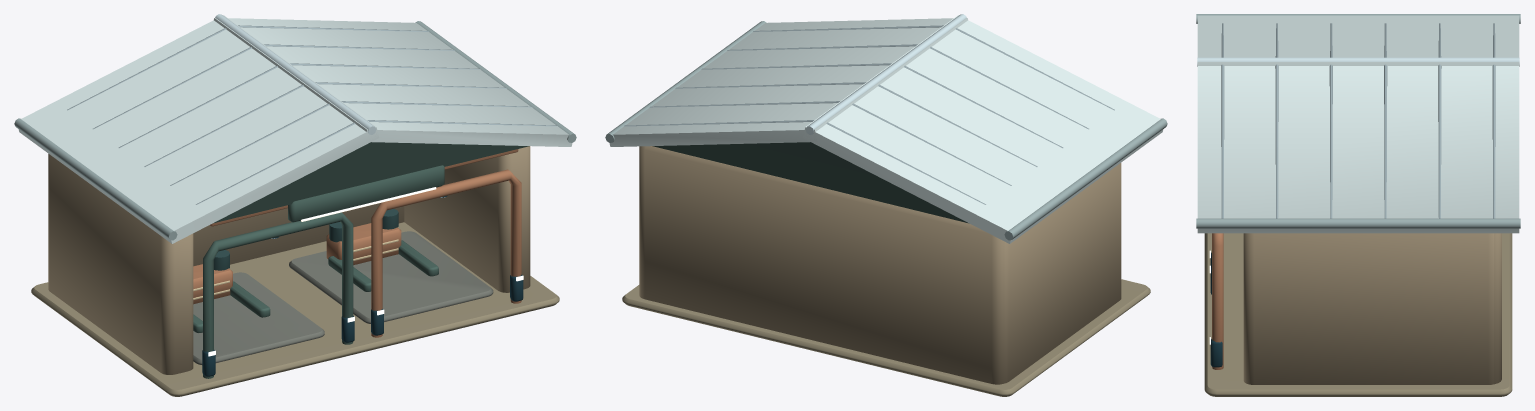
Rendered from wilderness_workshop.glb.
3 views of the same model, side by side, from view 1: azimuth 30°, elevation 25°; view 2: azimuth 150°, elevation 25°; view 3: azimuth 270°, elevation 25° (orthographic). The views are drawn at different scales.
Parts seen in each view (by area): view 1: WildernessWorkshop; view 2: WildernessWorkshop; view 3: WildernessWorkshop.
Boxes of the visible parts, left/top/right/bottom form: WildernessWorkshop: left=14, top=14, right=576, bottom=396; WildernessWorkshop: left=605, top=14, right=1167, bottom=396; WildernessWorkshop: left=1196, top=14, right=1520, bottom=396.
Bounding box in the file's own units: 9.69 × 5.19 × 6.35.
